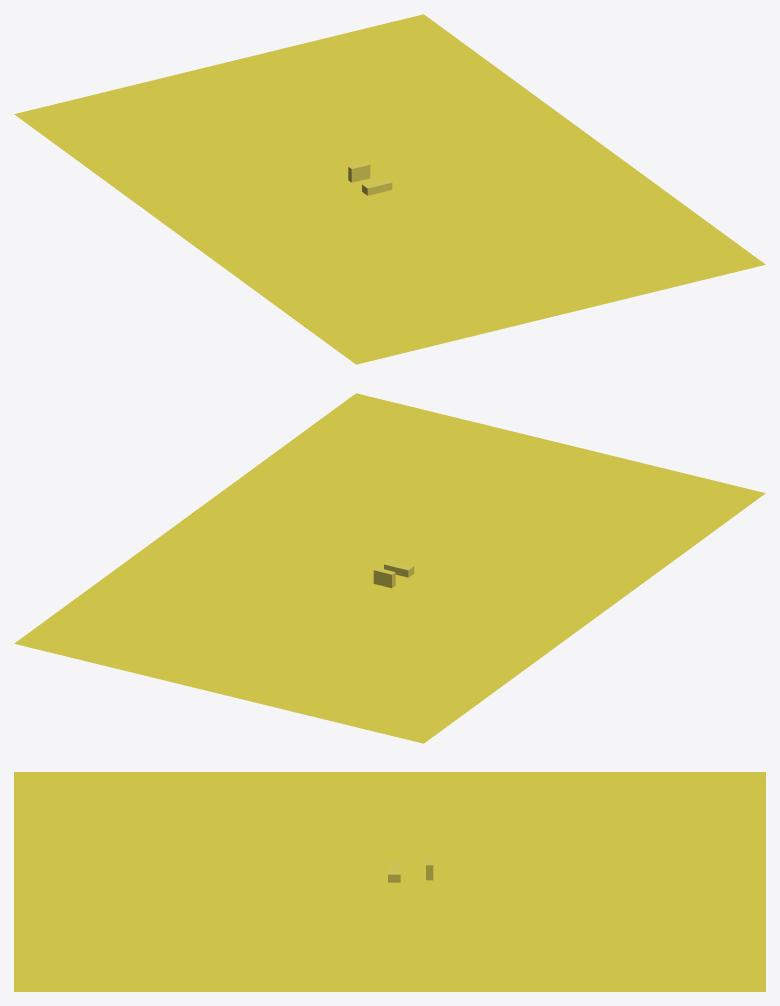
Rendered from ersteProbeBlender.glb.
The picture shows the model from 3 angles, top to bottom: view 1: azimuth 30°, elevation 25°; view 2: azimuth 150°, elevation 25°; view 3: azimuth 270°, elevation 25°; orthographic projection. The views are drawn at different scales.
Visible parts, largest first — view 1: Plane; view 2: Plane; view 3: Plane.
Boxes of the visible parts, x1,y1,x2,y2 form: Plane: [14, 14, 765, 364]; Plane: [14, 393, 765, 743]; Plane: [14, 772, 765, 991].
Size of the model in its own units: 138 by 9.87 by 200.
